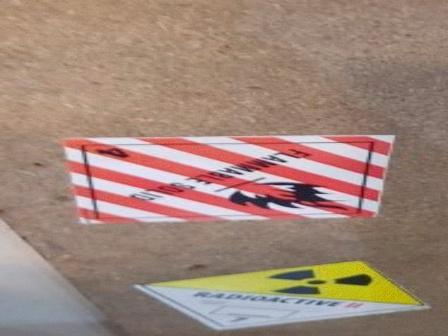flammable-solid: (50, 135, 395, 223)
radioactive: (134, 262, 431, 330)
